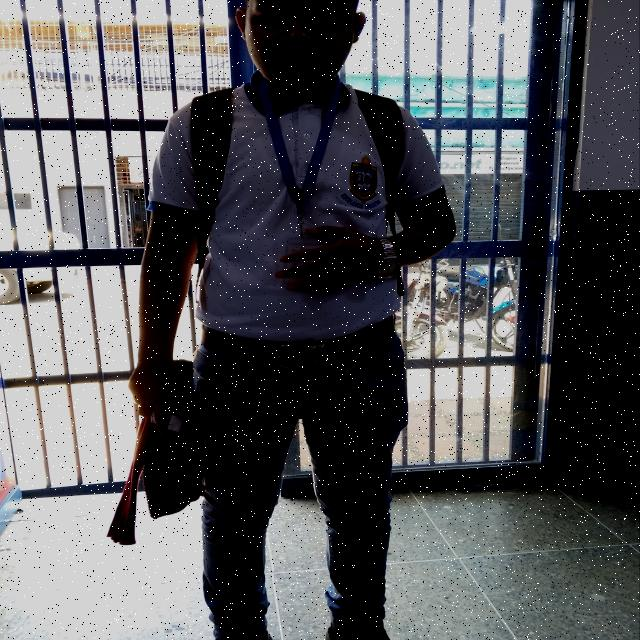carnet: (287, 245, 329, 287)
uniforme_superior: (146, 69, 446, 343)
